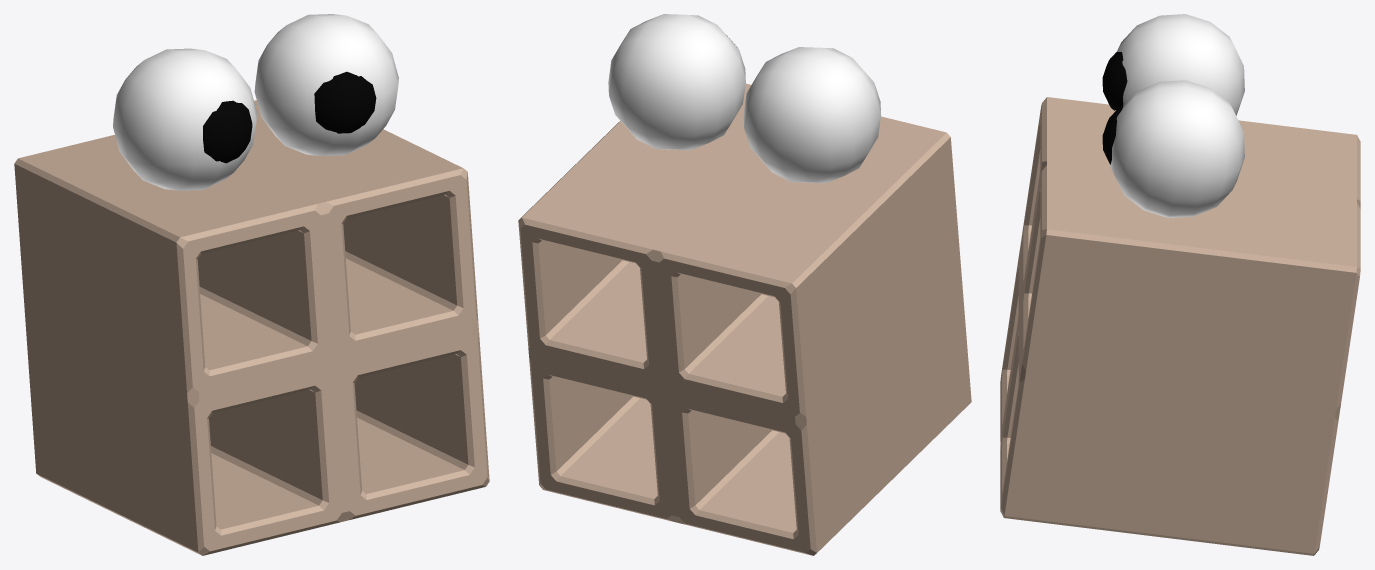
File: CinderBlock.fbx
3 renders of one model, left to right at view 1: azimuth 30°, elevation 25°; view 2: azimuth 150°, elevation 25°; view 3: azimuth 270°, elevation 25°, orthographic. The views are drawn at different scales.
Visible parts, largest first — view 1: CinderBlocks, Eye_R, Eye_L, EyeBall_L, EyeBall_R; view 2: CinderBlocks, Eye_R, Eye_L; view 3: CinderBlocks, Eye_L, Eye_R, EyeBall_R, EyeBall_L.
Part boxes in pixels (x1=…): CinderBlocks: x1=14, y1=100, x2=489, y2=555; Eye_R: x1=113, y1=48, x2=256, y2=190; Eye_L: x1=254, y1=14, x2=398, y2=156; EyeBall_L: x1=314, y1=71, x2=376, y2=133; EyeBall_R: x1=203, y1=100, x2=252, y2=163; CinderBlocks: x1=518, y1=83, x2=971, y2=555; Eye_R: x1=743, y1=47, x2=881, y2=183; Eye_L: x1=608, y1=14, x2=745, y2=150; CinderBlocks: x1=1000, y1=97, x2=1360, y2=555; Eye_L: x1=1110, y1=80, x2=1244, y2=218; Eye_R: x1=1115, y1=14, x2=1244, y2=115; EyeBall_R: x1=1102, y1=52, x2=1127, y2=110; EyeBall_L: x1=1102, y1=106, x2=1122, y2=164.
Size of the model in its own units: 64.48 by 96.51 by 72.29.
